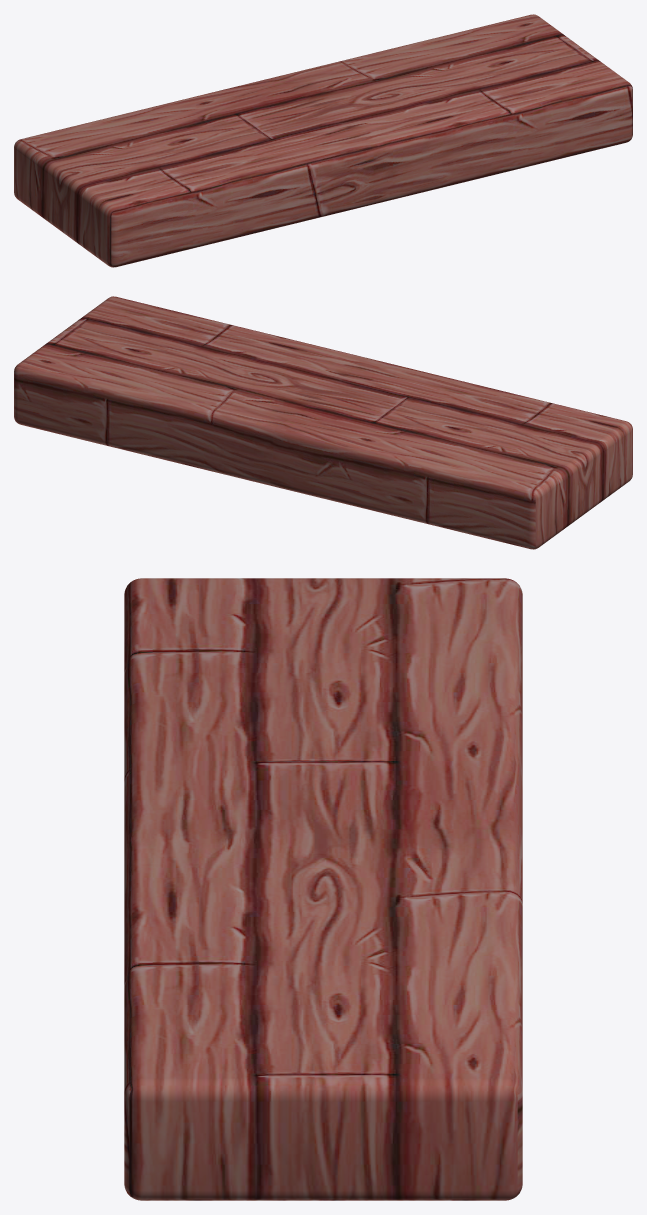
Rendered from Marco_ventana_inf_front.fbx.
3 views of the same model, one above another, from view 1: azimuth 30°, elevation 25°; view 2: azimuth 150°, elevation 25°; view 3: azimuth 270°, elevation 25° (orthographic). The views are drawn at different scales.
Visible parts, largest first — view 1: Marco_ventana.001; view 2: Marco_ventana.001; view 3: Marco_ventana.001.
Boxes of the visible parts, x1=… form: Marco_ventana.001: x1=14, y1=14, x2=632, y2=267; Marco_ventana.001: x1=14, y1=296, x2=632, y2=549; Marco_ventana.001: x1=124, y1=578, x2=522, y2=1200.
Size of the model in its own units: 911 by 100 by 299.
